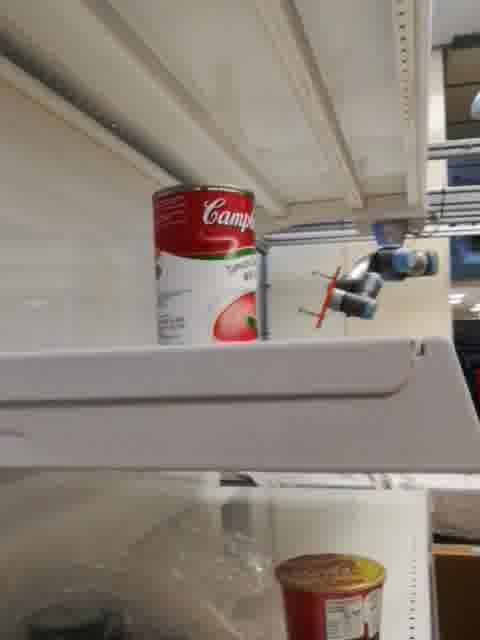tomatosoup: (150, 182, 261, 343)
